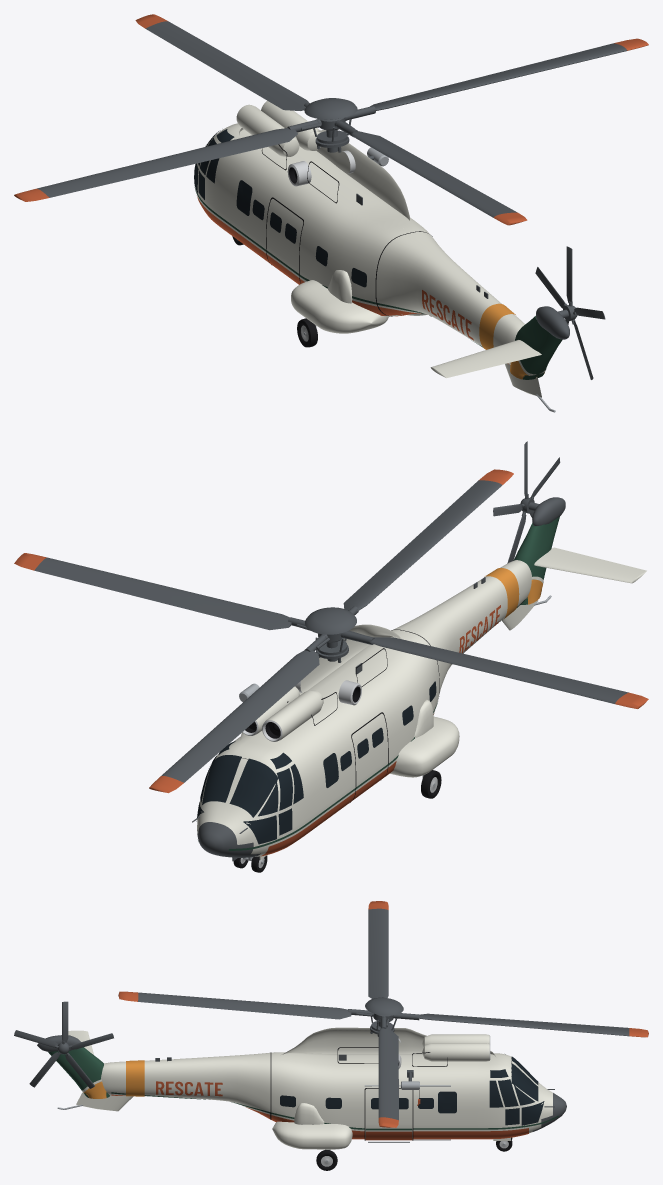
The model's file is super-puma.glb.
The picture shows the model from 3 angles, top to bottom: view 1: azimuth 30°, elevation 25°; view 2: azimuth 150°, elevation 25°; view 3: azimuth 270°, elevation 25°; orthographic projection. The views are drawn at different scales.
Parts seen in each view (by area): view 1: fuselaje, rotor-principal-pala-3, rotor-principal-pala-2, sponson, rotor-principal-pala-4, rotor-principal-pala-1, toma-de-motor, lomo, estabilizador, rotor-principal-buje, deriva, franja (+6 smaller); view 2: fuselaje, rotor-principal-pala-1, rotor-principal-pala-2, rotor-principal-pala-3, rotor-principal-pala-4, parabrisas, ventanillas-de-mando, sponson, toma-de-motor, estabilizador, rotor-principal-buje, lomo (+4 smaller); view 3: fuselaje, lomo, rotor-principal-pala-4, rotor-principal-pala-1, sponson, rotor-principal-pala-3, toma-de-motor, rotor-principal-pala-2, ventanillas-de-mando, franja, puerta-corredera-chapa, deriva (+10 smaller).
Part boxes in pixels (x1=…): fuselaje: x1=195, y1=123, x2=525, y2=364; rotor-principal-pala-3: x1=37, y1=120, x2=321, y2=197; rotor-principal-pala-2: x1=145, y1=21, x2=309, y2=110; sponson: x1=291, y1=280, x2=427, y2=333; rotor-principal-pala-4: x1=336, y1=121, x2=517, y2=217; rotor-principal-pala-1: x1=348, y1=43, x2=627, y2=119; toma-de-motor: x1=236, y1=101, x2=320, y2=156; lomo: x1=239, y1=128, x2=409, y2=220; estabilizador: x1=430, y1=340, x2=541, y2=378; rotor-principal-buje: x1=304, y1=98, x2=357, y2=152; deriva: x1=515, y1=316, x2=562, y2=379; franja: x1=197, y1=197, x2=508, y2=364; fuselaje: x1=197, y1=560, x2=531, y2=857; rotor-principal-pala-1: x1=34, y1=557, x2=310, y2=630; rotor-principal-pala-2: x1=161, y1=635, x2=329, y2=782; rotor-principal-pala-3: x1=344, y1=630, x2=628, y2=703; rotor-principal-pala-4: x1=343, y1=480, x2=502, y2=615; parabrisas: x1=202, y1=755, x2=278, y2=817; ventanillas-de-mando: x1=196, y1=741, x2=303, y2=844; sponson: x1=390, y1=716, x2=459, y2=777; toma-de-motor: x1=242, y1=686, x2=323, y2=741; estabilizador: x1=534, y1=547, x2=646, y2=583; rotor-principal-buje: x1=305, y1=607, x2=356, y2=661; lomo: x1=240, y1=624, x2=401, y2=739; fuselaje: x1=101, y1=1052, x2=566, y2=1133; lomo: x1=282, y1=1027, x2=496, y2=1057; rotor-principal-pala-4: x1=138, y1=992, x2=372, y2=1019; rotor-principal-pala-1: x1=378, y1=1017, x2=398, y2=1120; sponson: x1=272, y1=1121, x2=352, y2=1149; rotor-principal-pala-3: x1=368, y1=908, x2=388, y2=998; toma-de-motor: x1=422, y1=1034, x2=490, y2=1061; rotor-principal-pala-2: x1=396, y1=1013, x2=629, y2=1036; ventanillas-de-mando: x1=489, y1=1054, x2=544, y2=1125; franja: x1=111, y1=1094, x2=528, y2=1139; puerta-corredera-chapa: x1=364, y1=1088, x2=412, y2=1139; deriva: x1=48, y1=1047, x2=110, y2=1097.
Size of the model in its own units: 15.6 by 5.02 by 18.6.
